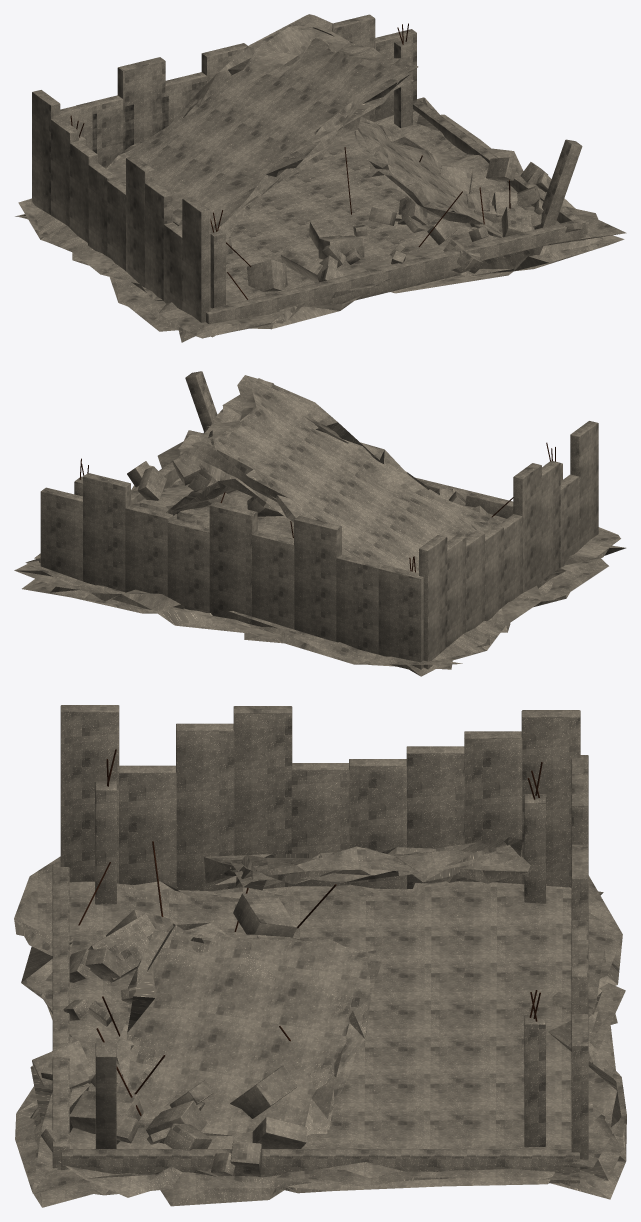
The model's file is fac_dmg_heavy.glb.
3 views of the same model, one above another, from view 1: azimuth 30°, elevation 25°; view 2: azimuth 150°, elevation 25°; view 3: azimuth 270°, elevation 25° (orthographic). The views are drawn at different scales.
Visible parts, largest first — view 1: fac_dmg_heavy; view 2: fac_dmg_heavy; view 3: fac_dmg_heavy.
Boxes of the visible parts, left/top/right/bottom form: fac_dmg_heavy: left=15, top=14, right=626, bottom=342; fac_dmg_heavy: left=14, top=371, right=625, bottom=676; fac_dmg_heavy: left=14, top=705, right=626, bottom=1207.
Bounding box in the file's own units: 15.78 × 5.38 × 12.29.
Materials: 3 (3 with a texture image).
